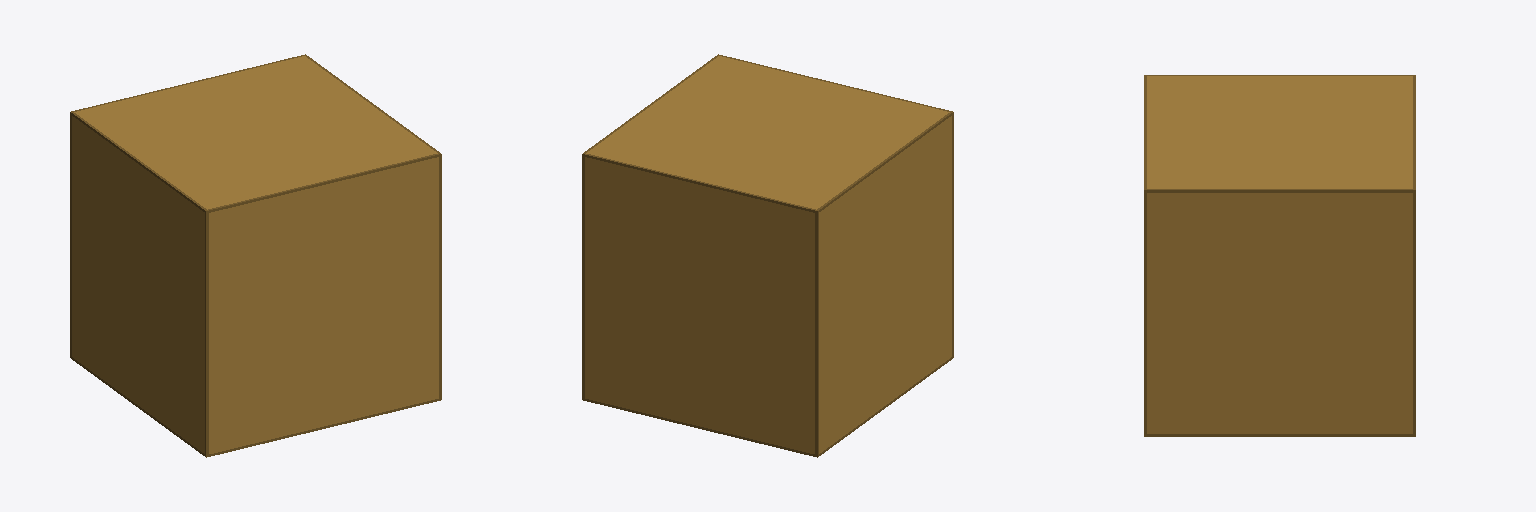
The picture shows the model from 3 angles: view 1: azimuth 30°, elevation 25°; view 2: azimuth 150°, elevation 25°; view 3: azimuth 270°, elevation 25°; orthographic projection.
Visible parts, largest first — view 1: Cube; view 2: Cube; view 3: Cube.
Part boxes in pixels (x1,y1,x2,y2): Cube: (70,54,441,457); Cube: (582,54,953,457); Cube: (1144,75,1415,436).
Size of the model in its own units: 2 by 2 by 2.
1 materials, 1 textured.